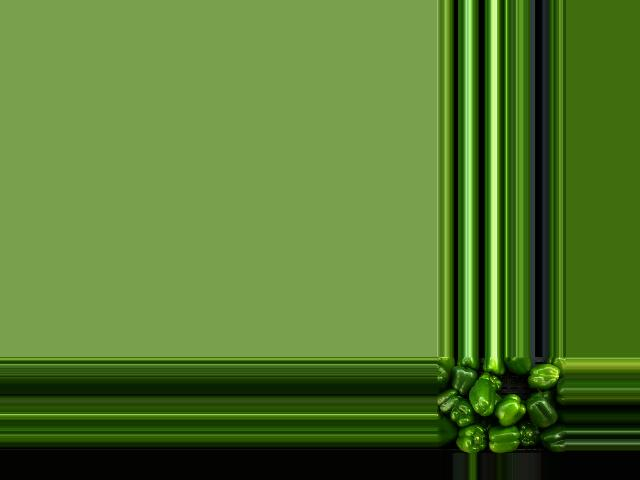bell_pepper: (436, 412, 457, 439)
